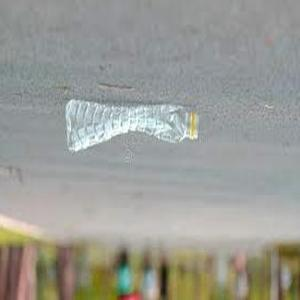Plastic: (60, 100, 202, 154)
